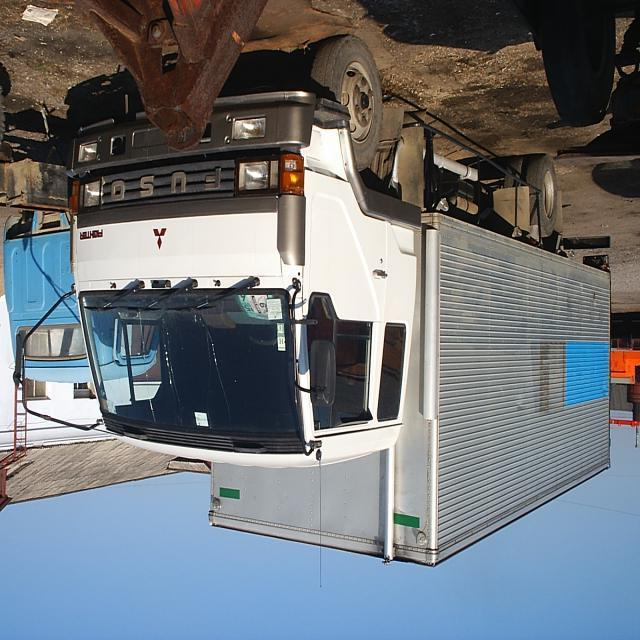truck: (16, 30, 610, 566)
